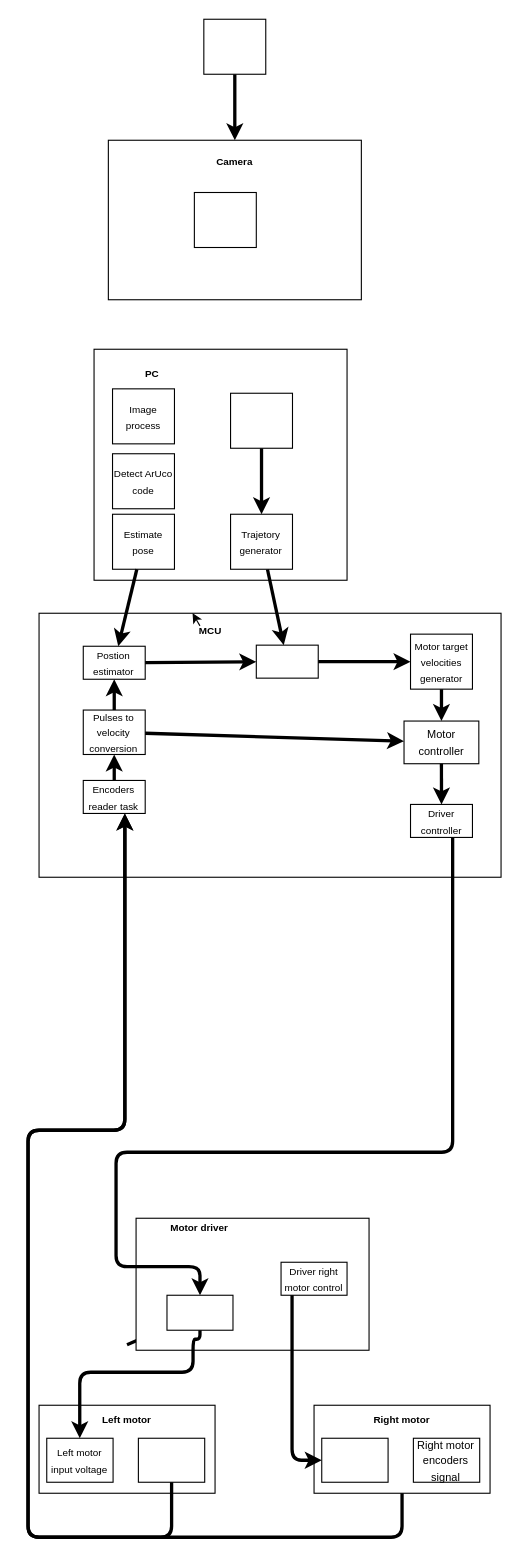
The diagram is 520 pixels wide and 1566 high, and some of its shapes have lost their labels. Each missing label, with the box of its shape:
ArUco: (203, 18, 266, 74)
Capture frame: (193, 191, 256, 248)
Driver left motor control: (166, 1294, 233, 1330)
Left motor encoders signal: (137, 1437, 205, 1482)
Main task: (229, 392, 292, 448)
Motion controller: (255, 644, 318, 678)
Right motor input voltage: (321, 1437, 388, 1482)
